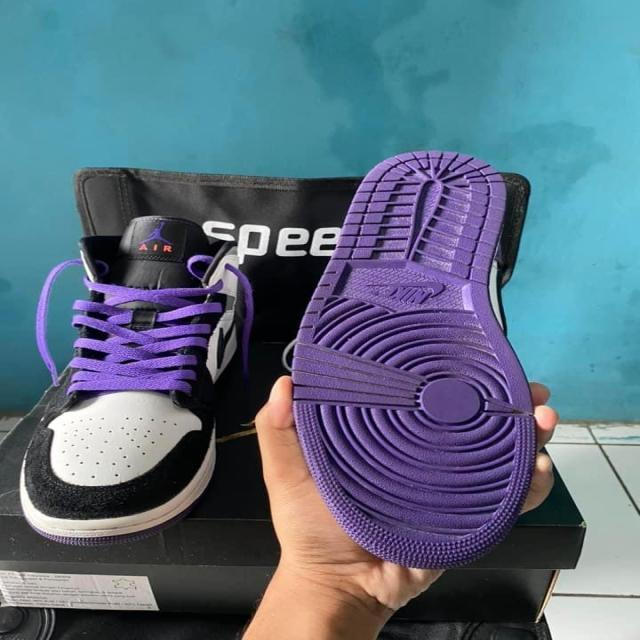nike fake jordan 1: (19, 212, 250, 550)
nike original jordan 1: (290, 150, 544, 475)
